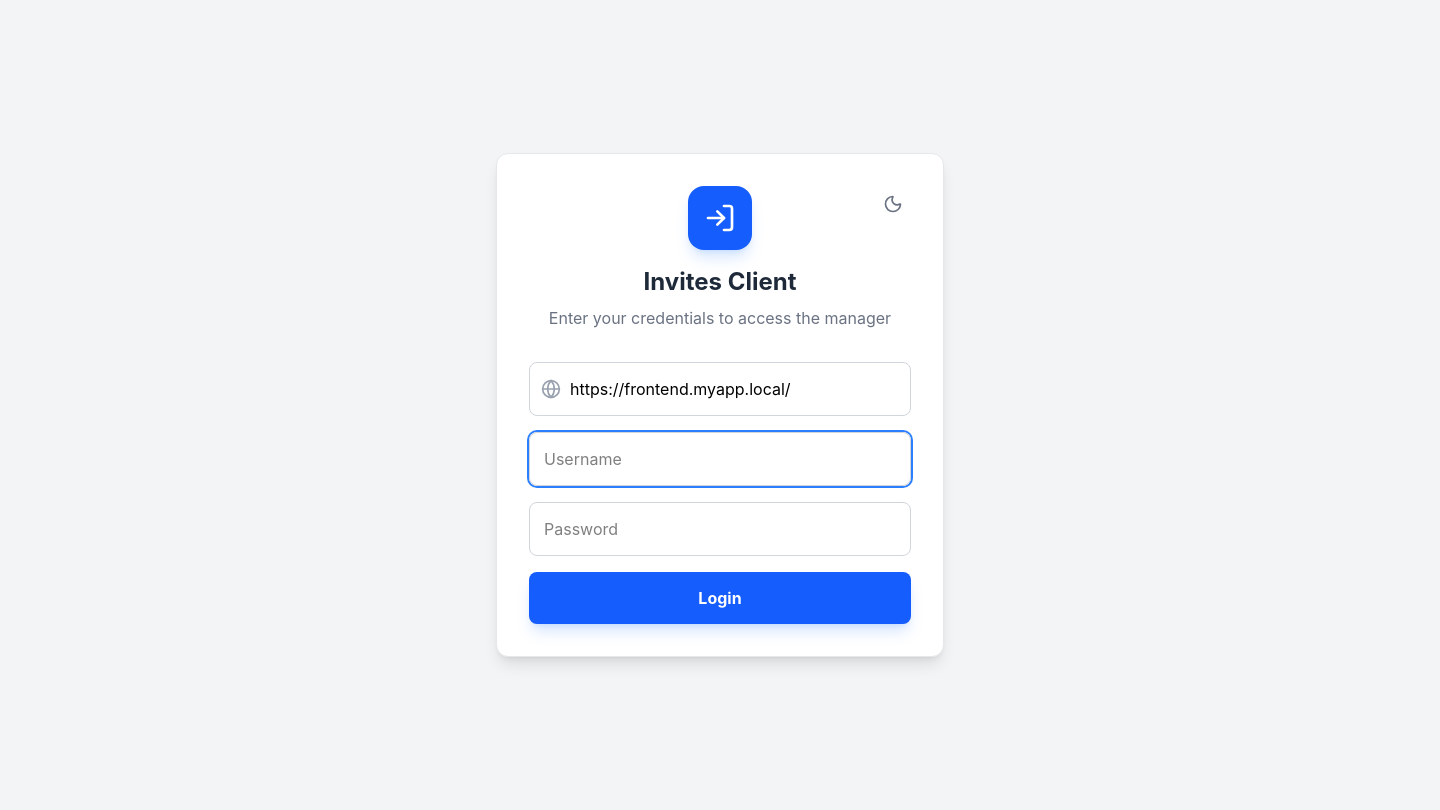
login flow › requires OTP validation before loading protected data
The width and height of the screenshot is (1440, 810).
Type "admin" into the field with placeholder "Username" at {"x": 720, "y": 459}, box [529,432,911,486]
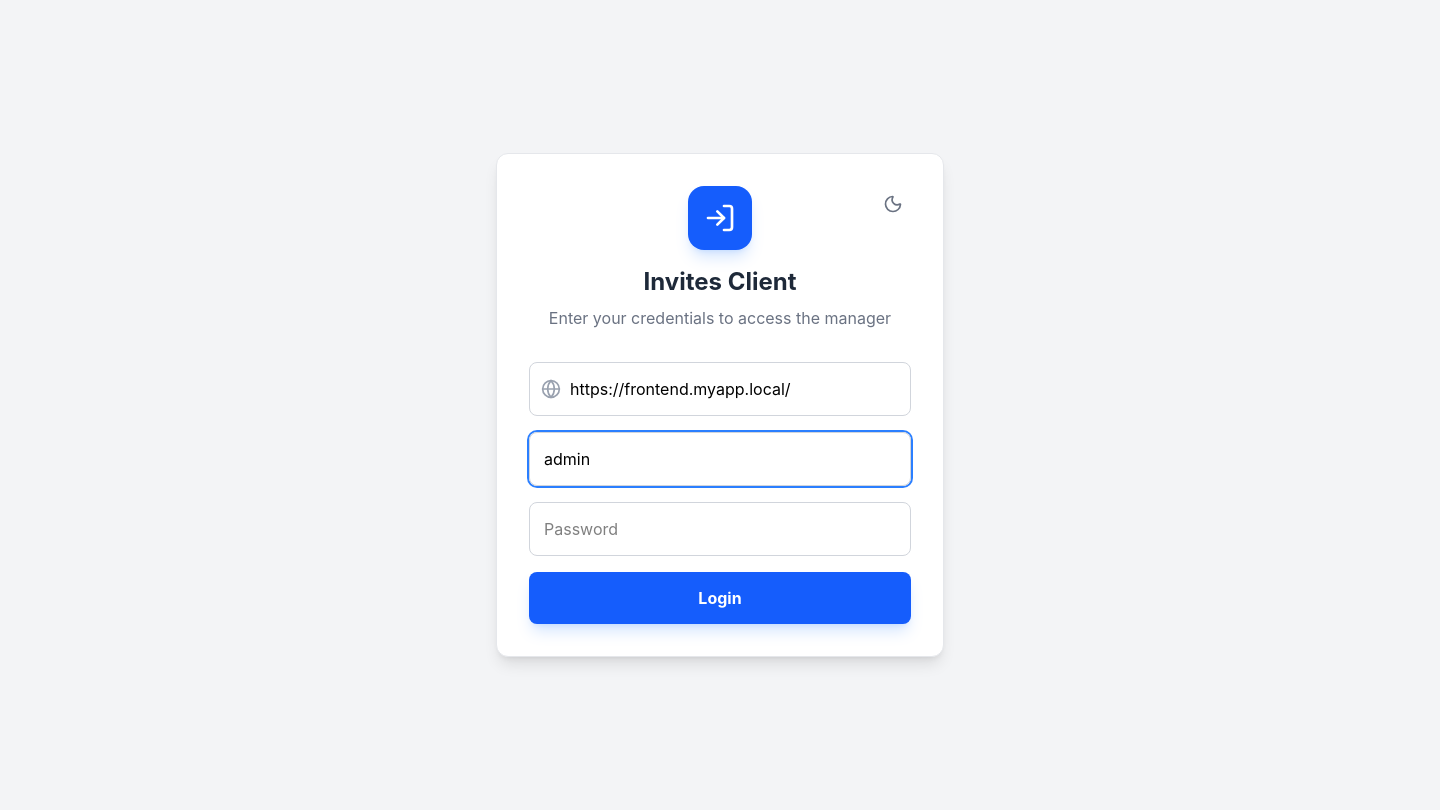
Type "pw" into the password field with placeholder "Password" at {"x": 720, "y": 529}, box [529,502,911,556]
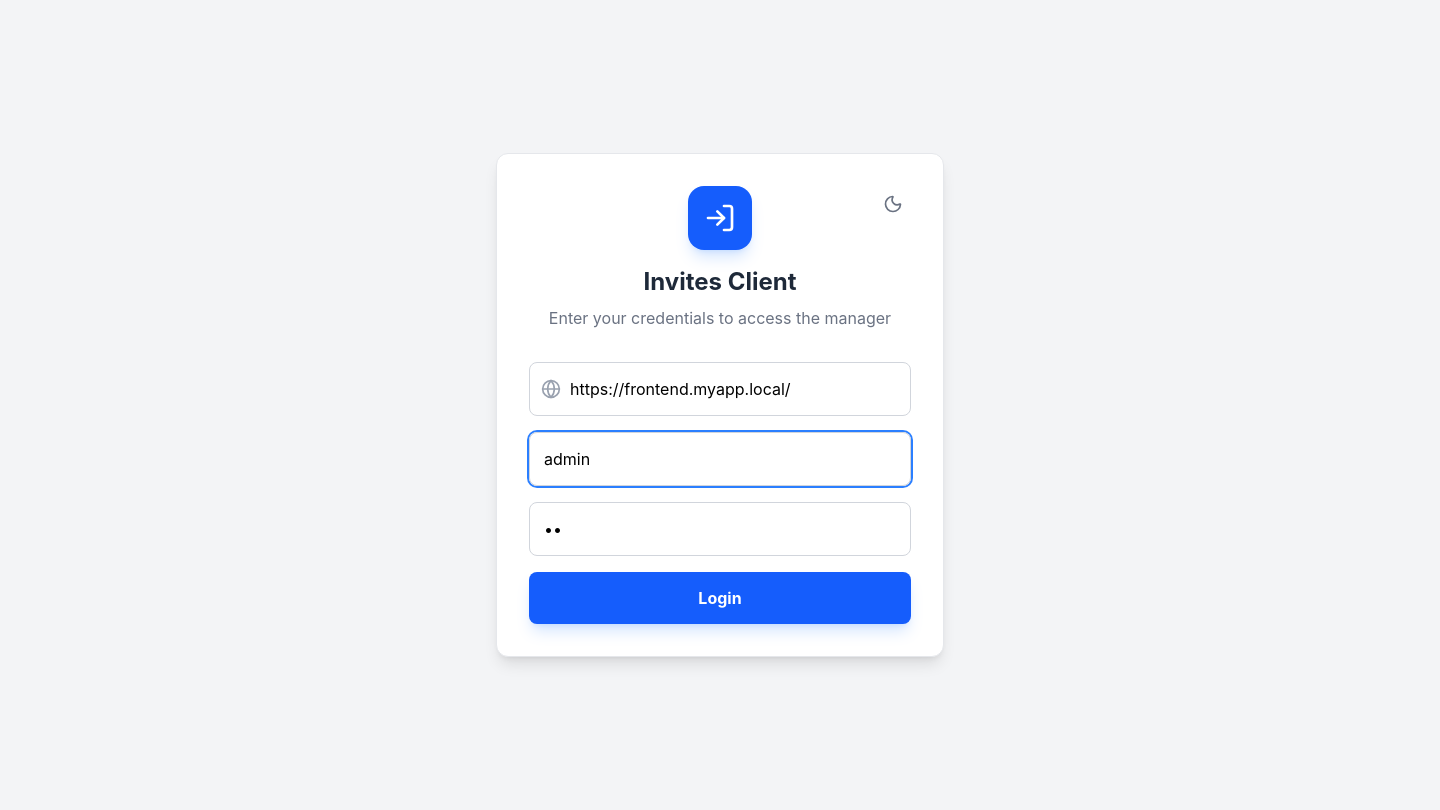
Click the button "Login" at {"x": 720, "y": 598}, box [529,572,911,624]
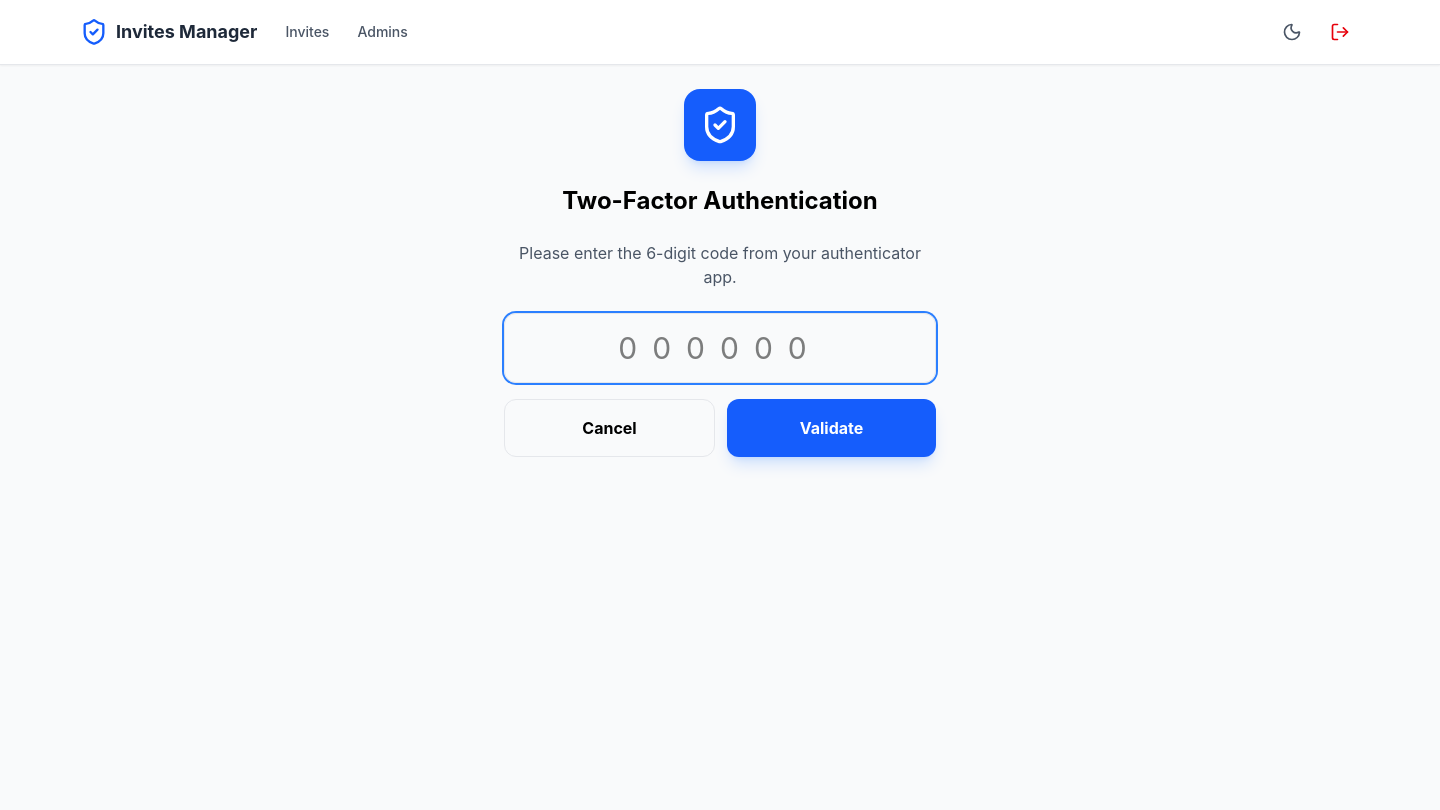
Expected: the heading "Two-Factor Authentication" is shown, [562,186,878,215]
